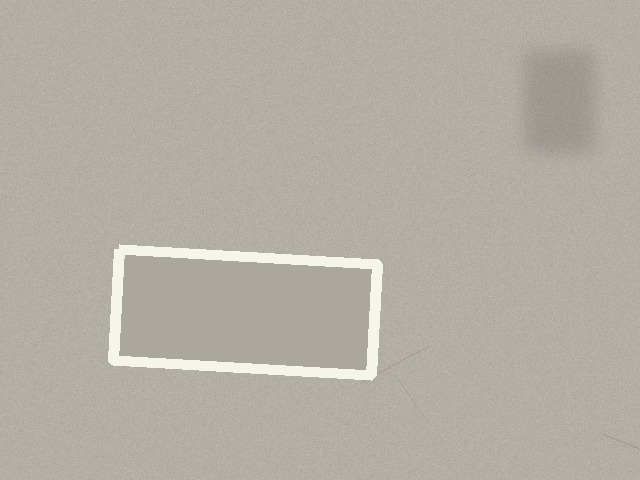parking_area: (113, 249, 377, 375)
